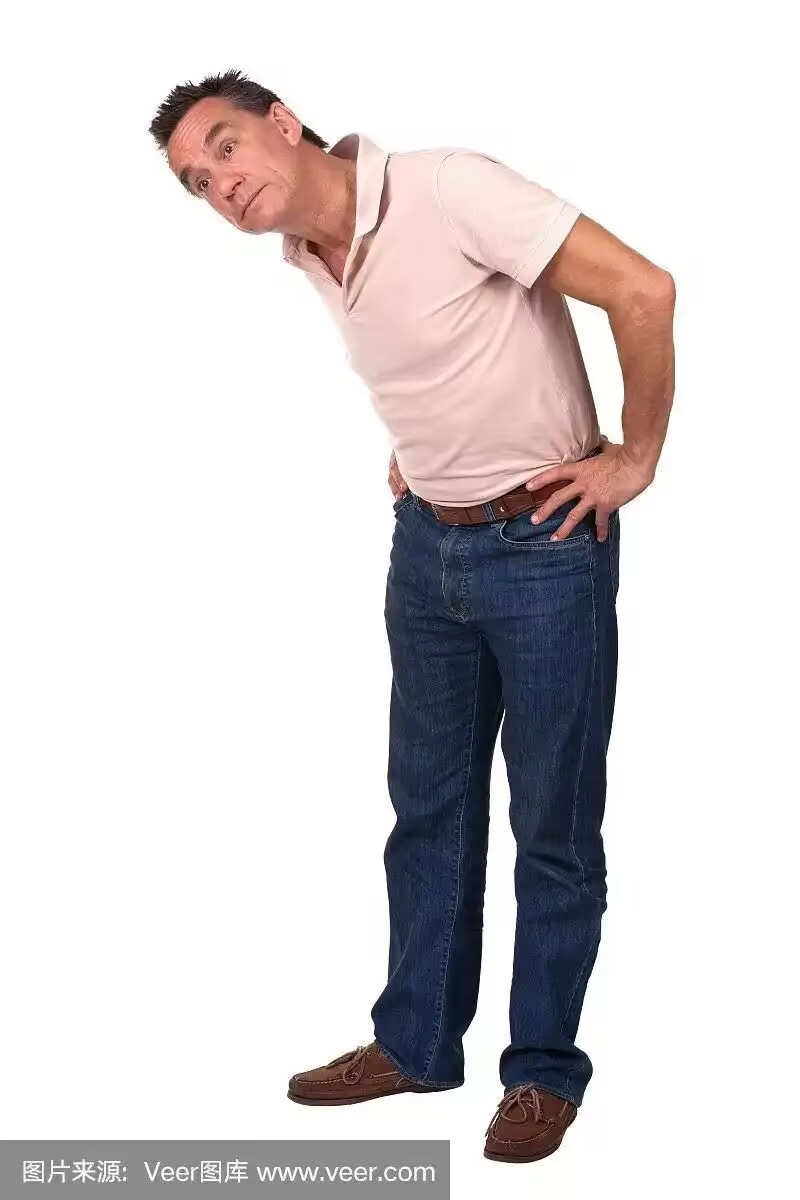bending: (116, 58, 681, 1174)
